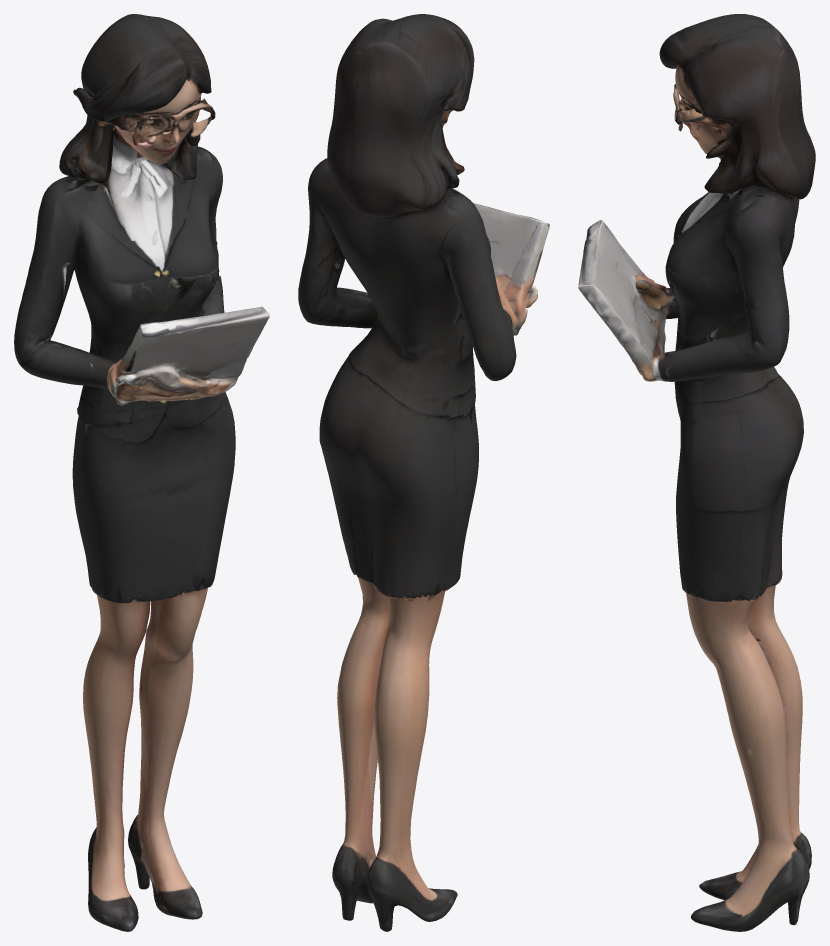
The model's file is Secretary.glb.
3 renders of one model, left to right at view 1: azimuth 30°, elevation 25°; view 2: azimuth 150°, elevation 25°; view 3: azimuth 270°, elevation 25°, orthographic.
Parts seen in each view (by area): view 1: Secretary; view 2: Secretary; view 3: Secretary.
Part boxes in pixels (<box>): Secretary: <box>14,14,269,931</box>; Secretary: <box>298,14,549,931</box>; Secretary: <box>578,14,815,931</box>.
Size of the model in its own units: 0.4115 by 1.7 by 0.4102.
Materials: 1 (1 with a texture image).
